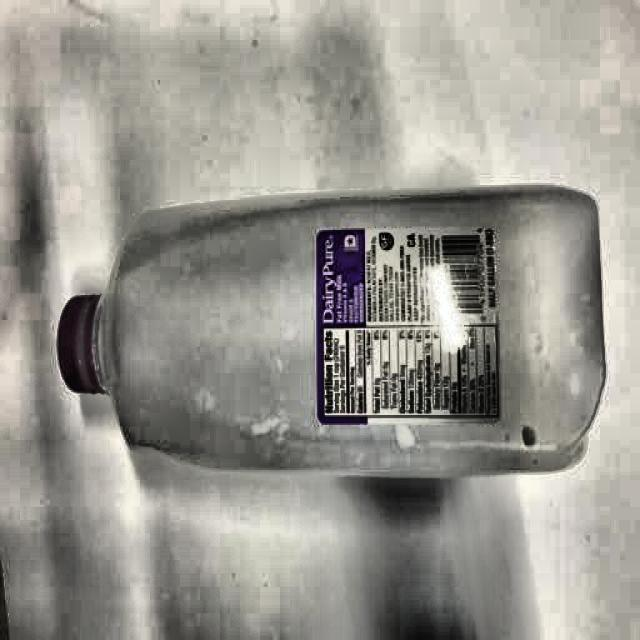plastic: (53, 182, 606, 478)
